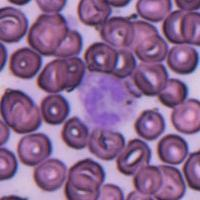N: (81, 75, 132, 132)
